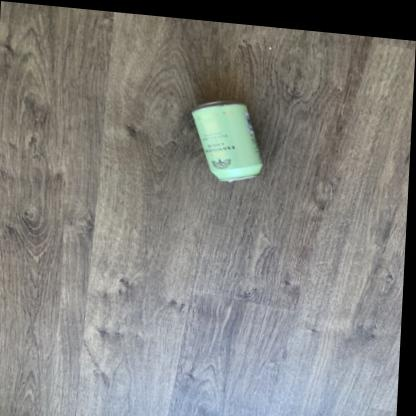trash: (192, 101, 262, 181)
